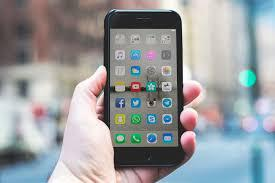Hand: (69, 62, 203, 183)
Smartphone: (100, 9, 183, 170)
